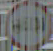Heavy Vehicles: (5, 3, 52, 48)
